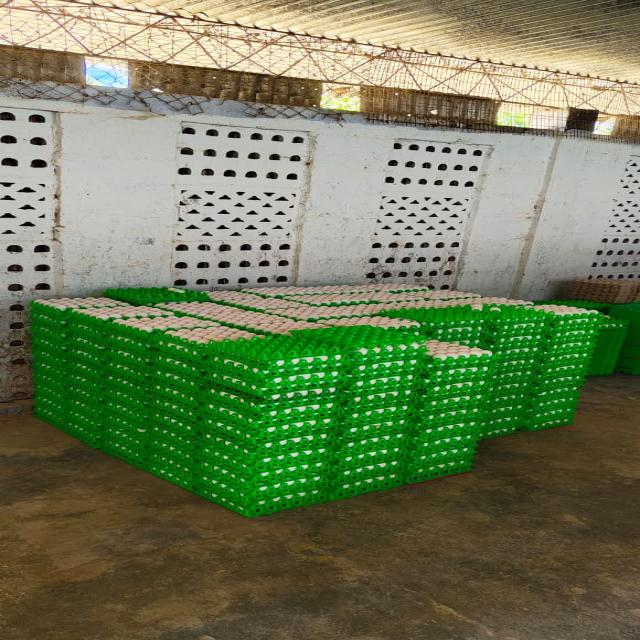egg_tray: (105, 308, 260, 488), (173, 123, 308, 288), (57, 299, 172, 463), (365, 140, 484, 287), (333, 326, 425, 496), (100, 348, 199, 488), (484, 305, 587, 436), (207, 336, 343, 422), (114, 315, 263, 391), (201, 374, 340, 454), (152, 326, 264, 424), (44, 298, 254, 348), (519, 304, 601, 430), (178, 122, 308, 200), (0, 108, 54, 295), (570, 156, 639, 302), (202, 380, 339, 453), (32, 298, 172, 368), (523, 306, 601, 430), (320, 326, 420, 422), (202, 376, 340, 442), (0, 236, 56, 398), (335, 343, 420, 449), (480, 305, 546, 438), (204, 388, 339, 453), (46, 298, 254, 340), (116, 324, 198, 428), (409, 357, 478, 480), (210, 378, 340, 441), (483, 305, 548, 430), (415, 340, 492, 443), (33, 333, 103, 446), (416, 340, 492, 442), (178, 184, 299, 241), (150, 324, 264, 383), (195, 467, 331, 516), (265, 298, 532, 322), (243, 284, 480, 311), (172, 238, 295, 290), (337, 412, 412, 497), (201, 434, 332, 482), (216, 355, 339, 406), (70, 305, 172, 366), (214, 332, 342, 379), (385, 138, 488, 196), (335, 398, 415, 466), (348, 336, 425, 406), (403, 410, 477, 482), (160, 302, 321, 334), (149, 336, 205, 426), (314, 326, 423, 372), (425, 340, 492, 414), (335, 412, 412, 474), (31, 297, 127, 346), (100, 334, 156, 418), (102, 330, 154, 420), (426, 340, 492, 410), (414, 380, 484, 446), (35, 374, 99, 446), (265, 300, 470, 322), (345, 354, 419, 413), (381, 304, 484, 346), (93, 394, 149, 470), (70, 305, 173, 346), (169, 303, 308, 333), (152, 372, 201, 457), (307, 300, 480, 324), (115, 316, 263, 344), (350, 336, 425, 390), (483, 304, 550, 364), (536, 305, 602, 365), (31, 300, 67, 410), (191, 475, 287, 516), (349, 354, 419, 408), (404, 434, 477, 482), (223, 294, 356, 320), (212, 292, 326, 320), (541, 314, 600, 368), (346, 297, 532, 314), (333, 455, 405, 498), (422, 340, 492, 384), (32, 324, 71, 401), (139, 438, 196, 490), (520, 381, 580, 430), (286, 290, 479, 304), (273, 332, 344, 369), (488, 352, 535, 405), (242, 284, 433, 297), (34, 367, 72, 432), (31, 312, 68, 376), (269, 304, 387, 324), (375, 297, 532, 312), (587, 317, 628, 374), (29, 303, 66, 364), (486, 376, 531, 426), (265, 304, 383, 323), (281, 283, 450, 296), (490, 304, 563, 334), (376, 298, 532, 312), (611, 302, 639, 374), (380, 296, 532, 309), (322, 305, 416, 326), (103, 287, 206, 306), (207, 291, 308, 310), (487, 336, 541, 371), (385, 298, 478, 318), (418, 318, 483, 346), (167, 326, 265, 344), (241, 285, 374, 298), (115, 316, 221, 332), (157, 302, 250, 319), (334, 300, 438, 315), (531, 368, 583, 398), (74, 305, 173, 320), (536, 304, 604, 325), (372, 290, 479, 303), (206, 290, 281, 308), (520, 406, 574, 431), (479, 408, 522, 439), (531, 386, 578, 414), (249, 298, 314, 318), (372, 290, 480, 302), (284, 292, 376, 306), (425, 340, 491, 359), (536, 299, 612, 315), (35, 297, 128, 310), (320, 316, 419, 328), (380, 298, 478, 310), (239, 286, 310, 298), (371, 282, 446, 293), (378, 283, 452, 294), (536, 304, 598, 315), (370, 282, 437, 292), (372, 283, 439, 292), (473, 296, 533, 306), (511, 362, 531, 374), (563, 403, 574, 423), (287, 410, 303, 423), (574, 378, 583, 396), (567, 307, 585, 316), (483, 324, 492, 342), (147, 432, 158, 444), (483, 298, 506, 303), (257, 352, 267, 363), (232, 406, 249, 412), (140, 333, 148, 345), (166, 456, 173, 469), (168, 287, 183, 293), (295, 438, 305, 446), (395, 448, 402, 459), (557, 356, 566, 364), (135, 320, 147, 326), (36, 353, 46, 360), (156, 308, 167, 314), (183, 403, 192, 410), (494, 430, 508, 434), (186, 194, 193, 202), (270, 311, 288, 314), (131, 356, 138, 363), (35, 305, 39, 317), (284, 426, 292, 432), (260, 303, 268, 309), (237, 378, 248, 382), (135, 308, 141, 315), (473, 378, 480, 384), (448, 301, 456, 306), (358, 465, 371, 468), (223, 396, 232, 400), (181, 341, 188, 346), (451, 345, 458, 350), (113, 344, 121, 348), (271, 320, 279, 324), (358, 462, 366, 466), (495, 362, 499, 370), (152, 310, 157, 316), (135, 308, 140, 314), (551, 376, 554, 385), (61, 320, 66, 325), (161, 320, 166, 325), (405, 450, 409, 456), (162, 404, 166, 410), (170, 382, 174, 388), (281, 306, 292, 308), (226, 416, 233, 419), (520, 301, 530, 303), (551, 308, 557, 311), (231, 200, 234, 206), (131, 402, 135, 406), (294, 358, 298, 362), (232, 312, 236, 316), (299, 424, 303, 428), (383, 415, 388, 418), (185, 320, 190, 323), (510, 300, 515, 303), (384, 376, 391, 378), (211, 292, 214, 296), (374, 418, 380, 420), (278, 380, 281, 384), (17, 294, 23, 296), (63, 300, 68, 302), (156, 300, 161, 302), (238, 334, 243, 336), (511, 301, 516, 303), (492, 300, 497, 302), (178, 318, 181, 321), (313, 326, 317, 328), (254, 290, 258, 292), (192, 298, 200, 299), (241, 178, 243, 181), (198, 308, 201, 310), (265, 380, 268, 382), (179, 394, 181, 397), (615, 306, 618, 308), (213, 293, 216, 295), (212, 296, 214, 298), (381, 398, 383, 400), (245, 316, 246, 320), (568, 321, 570, 323), (182, 398, 183, 402), (98, 300, 100, 302), (6, 396, 8, 398), (220, 371, 222, 373), (383, 416, 387, 417), (390, 395, 392, 397), (164, 334, 166, 336), (215, 342, 218, 343), (138, 348, 139, 351), (392, 457, 393, 459), (627, 280, 628, 282), (254, 317, 255, 319), (64, 382, 65, 384), (44, 398, 45, 400), (76, 345, 77, 347), (374, 419, 375, 421), (6, 256, 8, 257), (398, 412, 399, 413), (374, 421, 375, 422), (392, 191, 393, 192), (158, 392, 159, 393), (441, 381, 442, 382), (168, 430, 169, 430), (154, 472, 154, 472), (134, 399, 136, 399), (53, 363, 54, 363), (78, 374, 80, 374), (414, 325, 416, 325), (387, 399, 388, 399), (414, 319, 417, 319), (218, 310, 218, 310), (203, 428, 207, 428), (555, 423, 558, 423), (491, 310, 492, 310), (186, 397, 190, 397), (166, 394, 167, 394), (356, 328, 371, 328), (118, 310, 119, 310), (70, 434, 72, 434), (274, 289, 274, 290), (127, 328, 128, 328), (562, 310, 562, 310), (154, 472, 156, 472), (436, 359, 437, 359), (437, 350, 439, 350), (159, 332, 160, 332), (521, 301, 523, 301), (374, 376, 376, 376), (400, 412, 400, 412), (16, 301, 16, 301), (4, 268, 4, 270), (327, 334, 328, 334), (384, 314, 387, 314), (538, 327, 538, 330), (524, 325, 525, 325), (502, 321, 503, 321), (572, 314, 572, 314), (160, 334, 161, 334), (132, 330, 134, 330), (467, 439, 470, 439)
